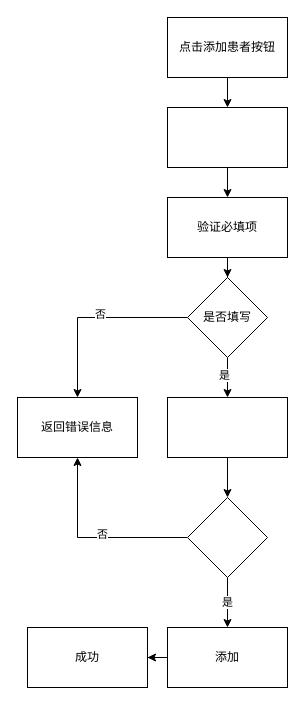
The diagram is 305 pixels wide and 705 high, and some of its shapes have lost their labels. Each missing label, with the centre of its shape:
"新增一行患者信息" goes at point (227, 137).
"是否合法" goes at point (227, 537).
"验证合法" goes at point (227, 427).
